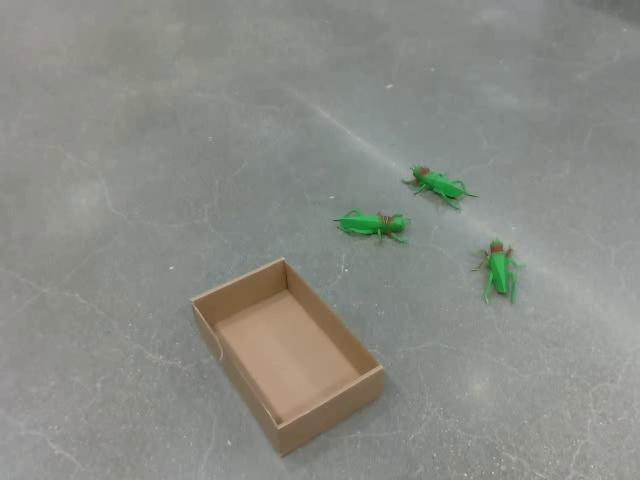box: (189, 256, 385, 458)
grasshopper: (470, 237, 526, 305), (401, 162, 478, 211), (331, 207, 411, 244)
